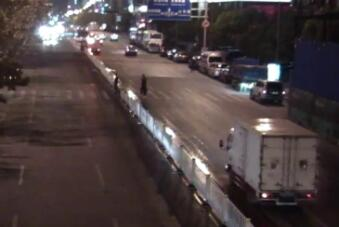bus: (140, 29, 166, 53)
car: (217, 117, 320, 210), (246, 78, 286, 106), (197, 49, 219, 72), (208, 59, 230, 78), (122, 41, 140, 57)
